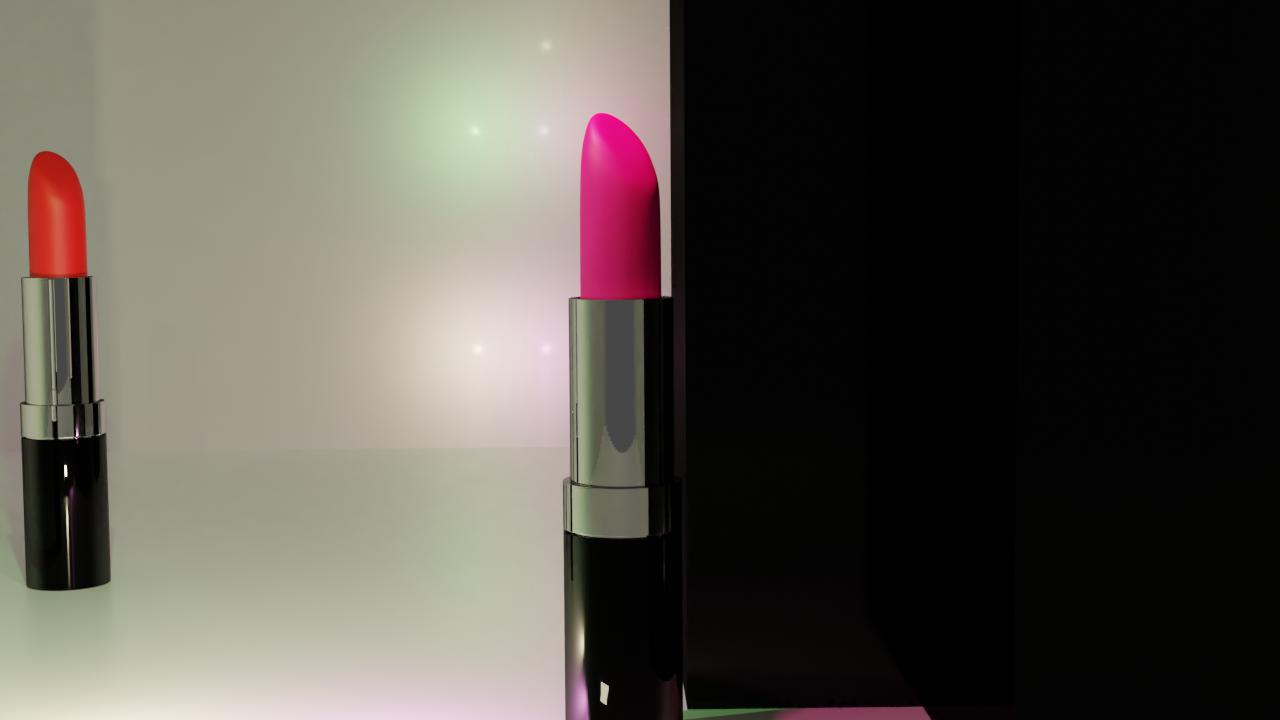CLASSIFIER_NAME: (562, 105, 685, 720), (18, 145, 113, 591)
